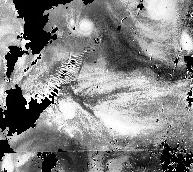CE: (79, 17, 96, 36)
